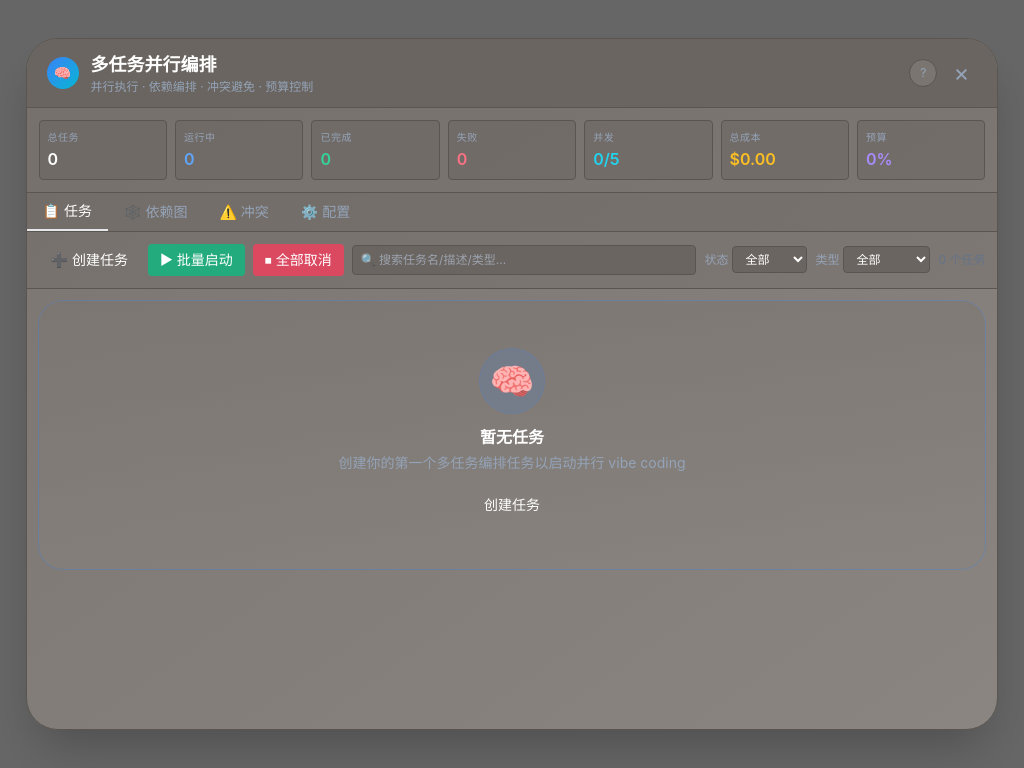
Scenario: MultiTaskOrchestrationPanel › 点击创建任务应显示表单
Click the button with test id "create-task": [89, 260] box [39,244,140,276]
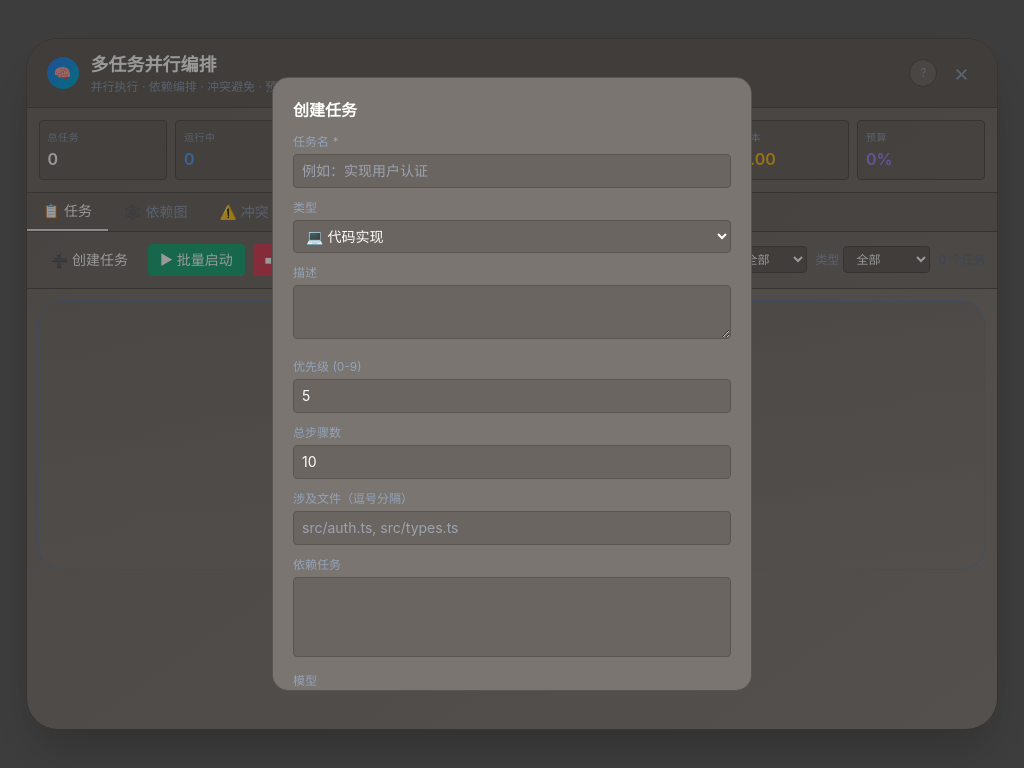
expect the element with test id "create-task-drawer" is shown: met
expect the field with test id "create-name" is shown: met, box [293,154,731,188]
expect the dropdown with test id "create-type" is shown: met, box [293,220,731,253]
